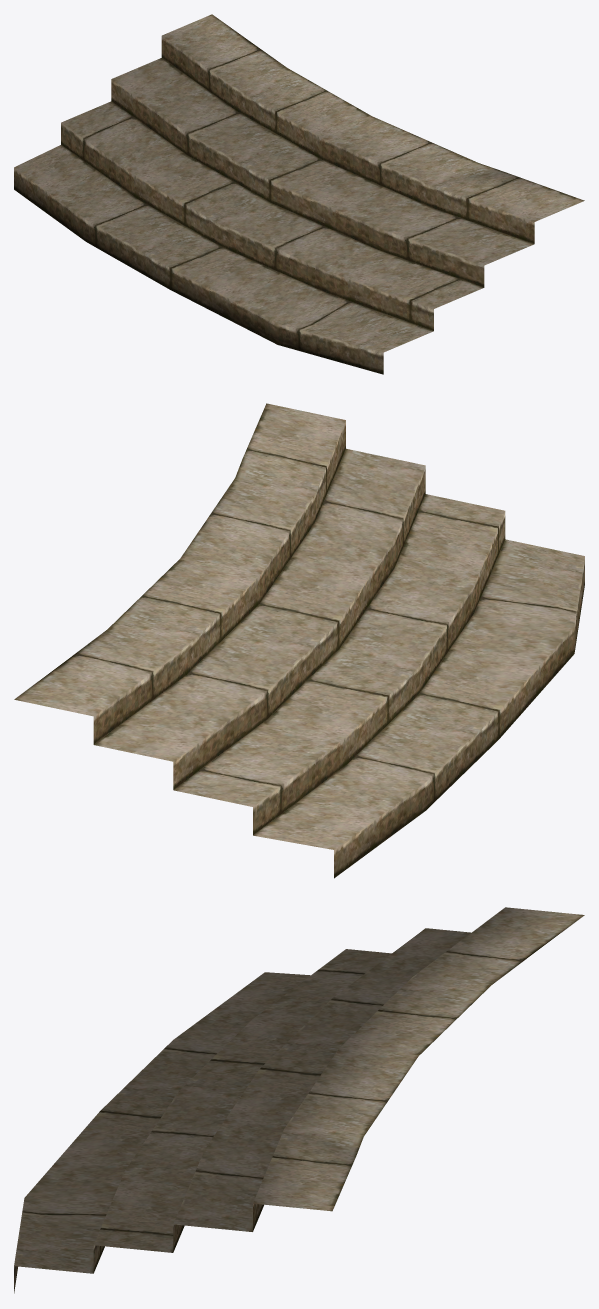
Rendered from EKH_THRONE_PS_TH_STEPS_01.fbx.
3 renders of one model, top to bottom at view 1: azimuth 30°, elevation 25°; view 2: azimuth 150°, elevation 25°; view 3: azimuth 330°, elevation 25°, orthographic. The views are drawn at different scales.
Parts seen in each view (by area): view 1: EKH_THRONE_PS_TH_STEPS_01; view 2: EKH_THRONE_PS_TH_STEPS_01; view 3: EKH_THRONE_PS_TH_STEPS_01.
Part boxes in pixels (x1,y1,x2,y2): EKH_THRONE_PS_TH_STEPS_01: [14, 14, 584, 374]; EKH_THRONE_PS_TH_STEPS_01: [14, 403, 584, 878]; EKH_THRONE_PS_TH_STEPS_01: [14, 907, 584, 1293].
Bounding box in the file's own units: 40839 × 12845 × 69707.
1 material, 1 textured.
